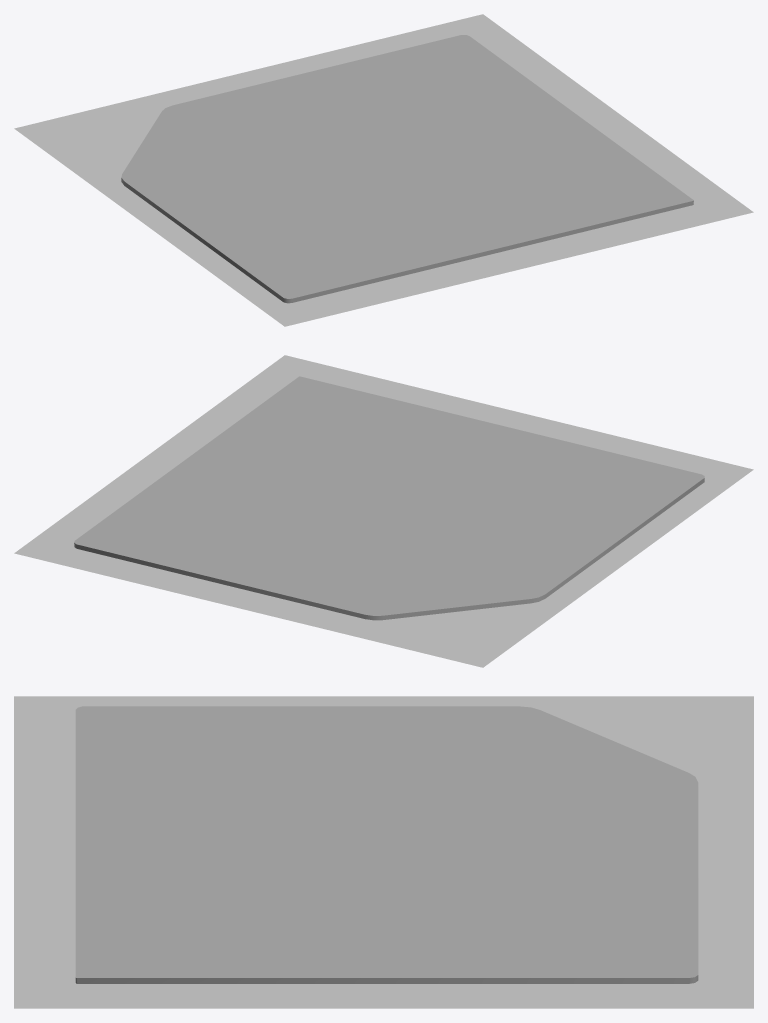
File: Panel 1.FBX
The picture shows the model from 3 angles, top to bottom: view 1: azimuth 30°, elevation 25°; view 2: azimuth 150°, elevation 25°; view 3: azimuth 270°, elevation 25°; orthographic projection. The views are drawn at different scales.
Parts seen in each view (by area): view 1: Pannel_1; view 2: Pannel_1; view 3: Pannel_1.
Part boxes in pixels (left/top/right/bottom): Pannel_1: left=14, top=14, right=753, bottom=326; Pannel_1: left=14, top=355, right=753, bottom=667; Pannel_1: left=14, top=696, right=753, bottom=1008.
Bounding box in the file's own units: 70 × 0.6275 × 70.02.
1 material, 1 textured.
